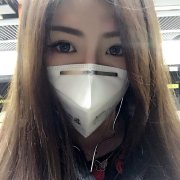face_mask: (44, 2, 129, 137)
